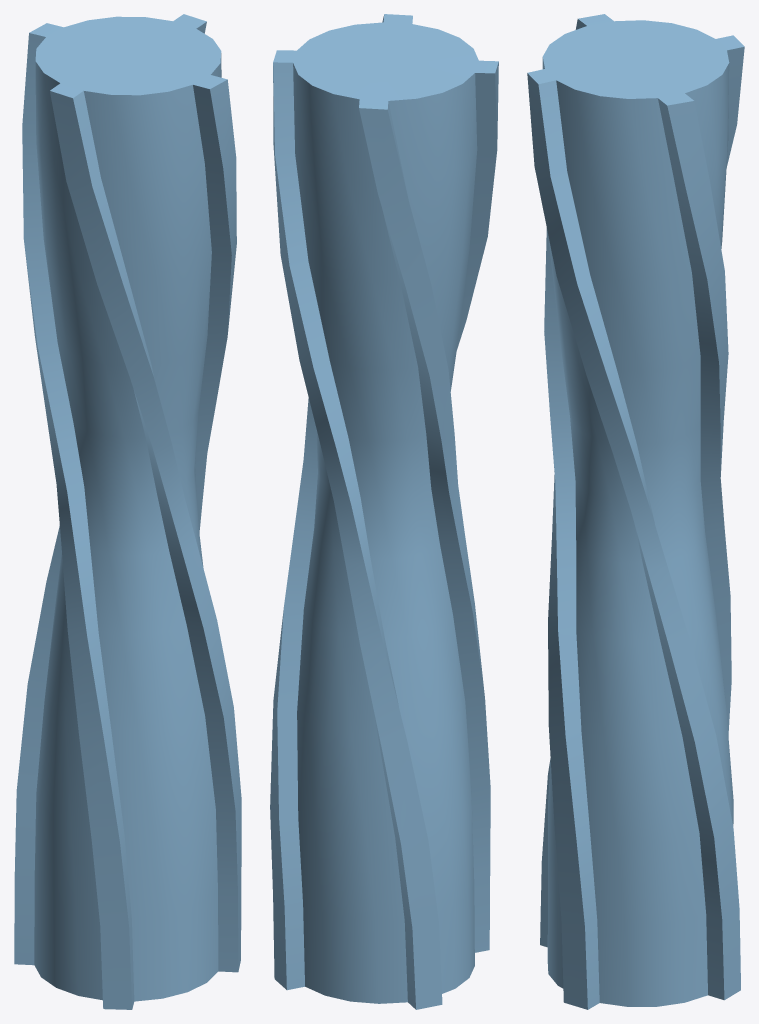
3 renders of one model, left to right at view 1: azimuth 30°, elevation 25°; view 2: azimuth 150°, elevation 25°; view 3: azimuth 270°, elevation 25°, orthographic.
Parts seen in each view (by area): view 1: pCylinder1; view 2: pCylinder1; view 3: pCylinder1.
Boxes of the visible parts, x1,y1,x2,y2 form: pCylinder1: [14, 14, 241, 1009]; pCylinder1: [270, 14, 498, 1009]; pCylinder1: [527, 14, 744, 1009].
Bounding box in the file's own units: 2253 × 10374 × 2253.
